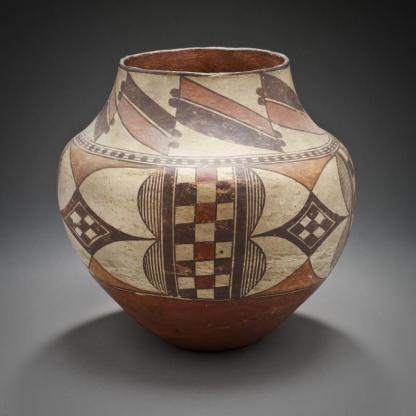vase: (56, 46, 356, 352)
